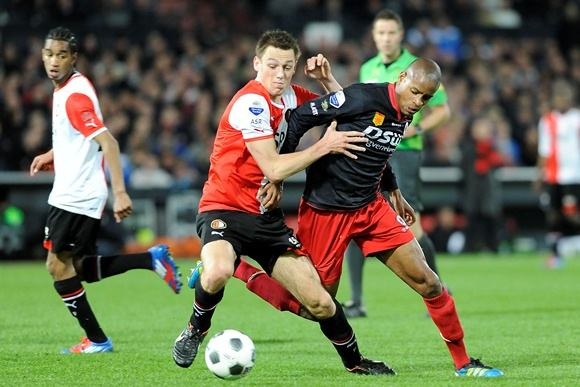football: (205, 329, 255, 380)
